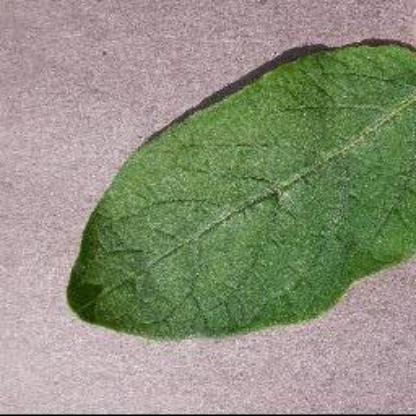Healthy-plant: (34, 14, 416, 354)
